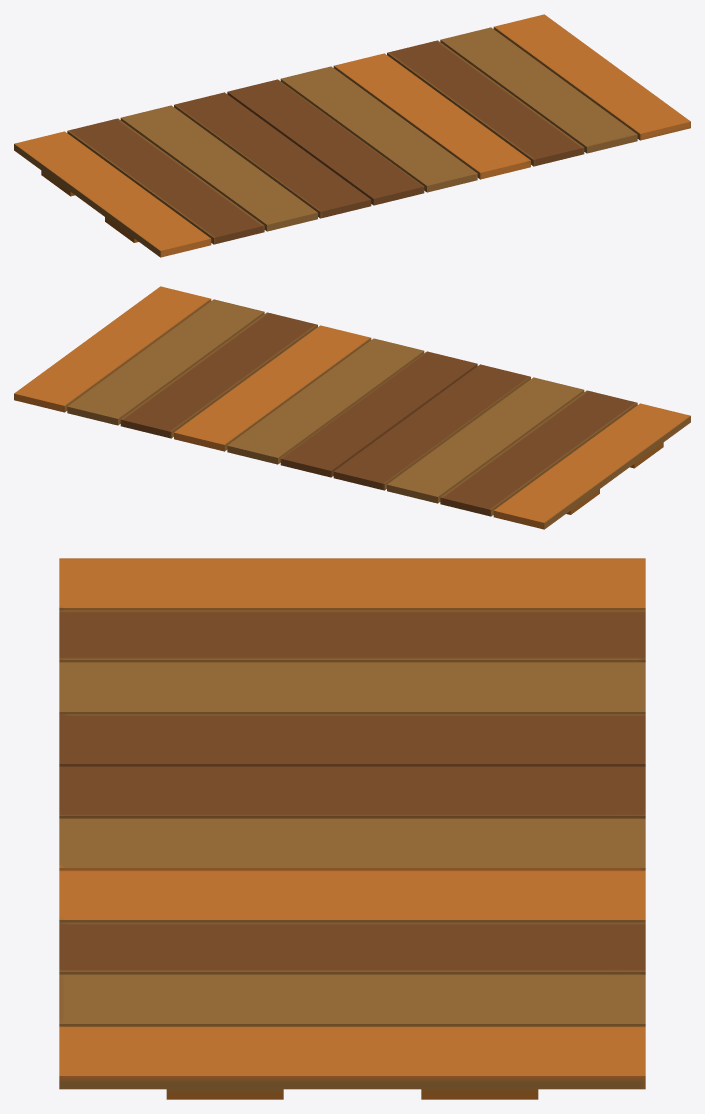
File: CeilingColor.fbx
The picture shows the model from 3 angles, top to bottom: view 1: azimuth 30°, elevation 25°; view 2: azimuth 150°, elevation 25°; view 3: azimuth 270°, elevation 25°; orthographic projection. The views are drawn at different scales.
Visible parts, largest first — view 1: Ceiling; view 2: Ceiling; view 3: Ceiling.
Part boxes in pixels (bbox=[...]): Ceiling: bbox=[14, 14, 690, 257]; Ceiling: bbox=[14, 286, 690, 529]; Ceiling: bbox=[59, 558, 645, 1099].
Size of the model in its own units: 836 by 17.79 by 400.
